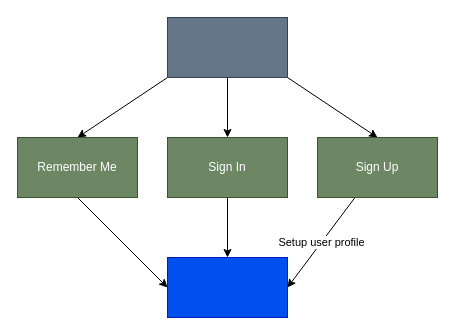
Some shapes in this 455 by 335 pixel diagram are drawn without their labels. Here are the shapes that lost their labels. From the top down, the box of each, then its label:
(166, 16, 288, 78): User opens app
(166, 256, 288, 318): Home Page
